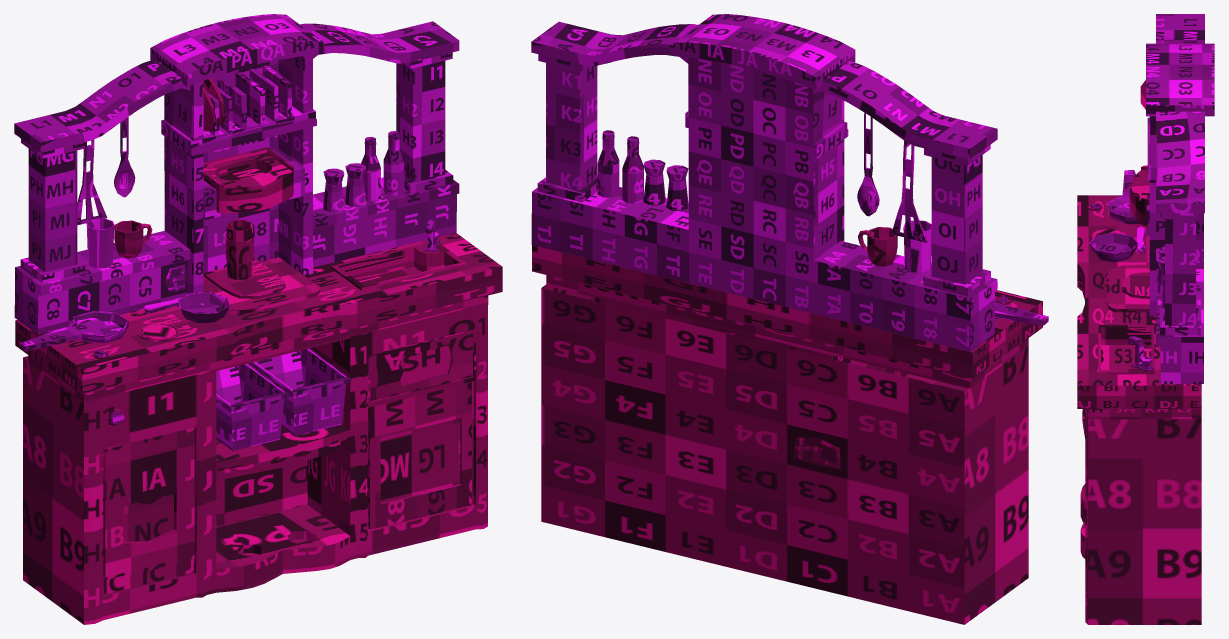
Rendered from ToyModel004.fbx.
3 views of the same model, side by side, from view 1: azimuth 30°, elevation 25°; view 2: azimuth 150°, elevation 25°; view 3: azimuth 270°, elevation 25° (orthographic). The views are drawn at different scales.
Visible parts, largest first — view 1: White_Low, lightPink_Low, darkPink_Low, Oven_Door_Low, Fridge_Door_Low, Basket1_Low, Basket2_Low, Microwave_Door_Low, Coffee_Maker_Base_Low, Pan_Low, Thermos_Low, Cup1_Low (+8 smaller); view 2: lightPink_Low, White_Low, darkPink_Low, Spatula_Low, Sauce2_Low, Sauce1_Low, Cup1_Low, Laddle_Low, Mug_Base_Low, PepperShaker_Low1, SaltShaker_Low, Pan_Low; view 3: lightPink_Low, White_Low, darkPink_Low, Bowl1_Low, Coffee_Maker_Base_Low, Pan_Low, Faucet_Low, PepperShaker_Low1.
Part boxes in pixels (x1,y1,x2,y2): White_Low: [14, 14, 459, 334]; lightPink_Low: [23, 304, 487, 624]; darkPink_Low: [15, 233, 502, 402]; Oven_Door_Low: [103, 427, 194, 594]; Fridge_Door_Low: [368, 382, 471, 529]; Basket1_Low: [248, 348, 351, 435]; Basket2_Low: [216, 363, 289, 450]; Microwave_Door_Low: [370, 331, 472, 401]; Coffee_Maker_Base_Low: [203, 147, 293, 213]; Pan_Low: [20, 311, 128, 351]; Thermos_Low: [225, 220, 253, 279]; Cup1_Low: [86, 218, 114, 268]; lightPink_Low: [541, 284, 1028, 624]; White_Low: [531, 14, 997, 351]; darkPink_Low: [532, 245, 1042, 388]; Spatula_Low: [891, 141, 927, 242]; Sauce2_Low: [597, 130, 619, 197]; Sauce1_Low: [622, 136, 643, 203]; Cup1_Low: [903, 220, 931, 272]; Laddle_Low: [857, 112, 879, 216]; Mug_Base_Low: [867, 227, 897, 266]; PepperShaker_Low1: [643, 159, 665, 205]; SaltShaker_Low: [666, 165, 688, 210]; Pan_Low: [995, 302, 1048, 325]; lightPink_Low: [1080, 409, 1201, 624]; White_Low: [1146, 14, 1214, 383]; darkPink_Low: [1077, 195, 1201, 419]; Bowl1_Low: [1089, 232, 1138, 261]; Coffee_Maker_Base_Low: [1129, 165, 1149, 225]; Pan_Low: [1108, 170, 1139, 224]; Faucet_Low: [1128, 336, 1154, 371]; PepperShaker_Low1: [1157, 256, 1164, 295].
Bounding box in the file's own units: 10.05 × 10.69 × 2.85.
2 materials, 2 textured.
